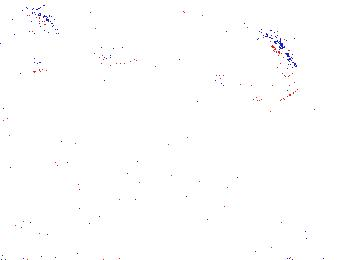moon jellyfish: (139, 11, 239, 84), (91, 1, 186, 67), (230, 26, 301, 103), (6, 12, 60, 74)
